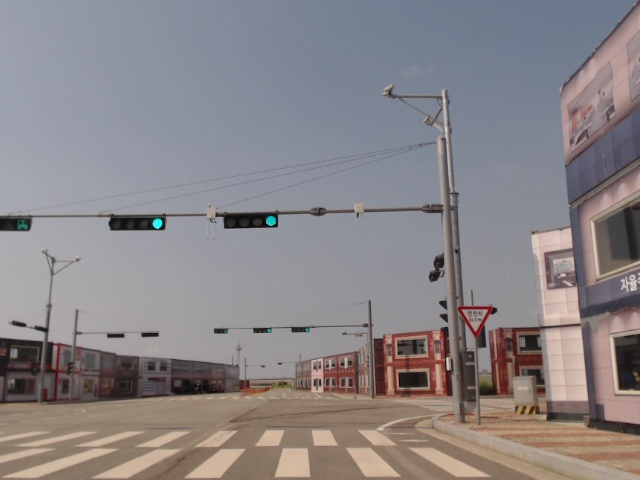straight_green_4: (224, 213, 279, 229), (111, 215, 164, 229), (290, 326, 312, 332), (252, 328, 273, 334)
